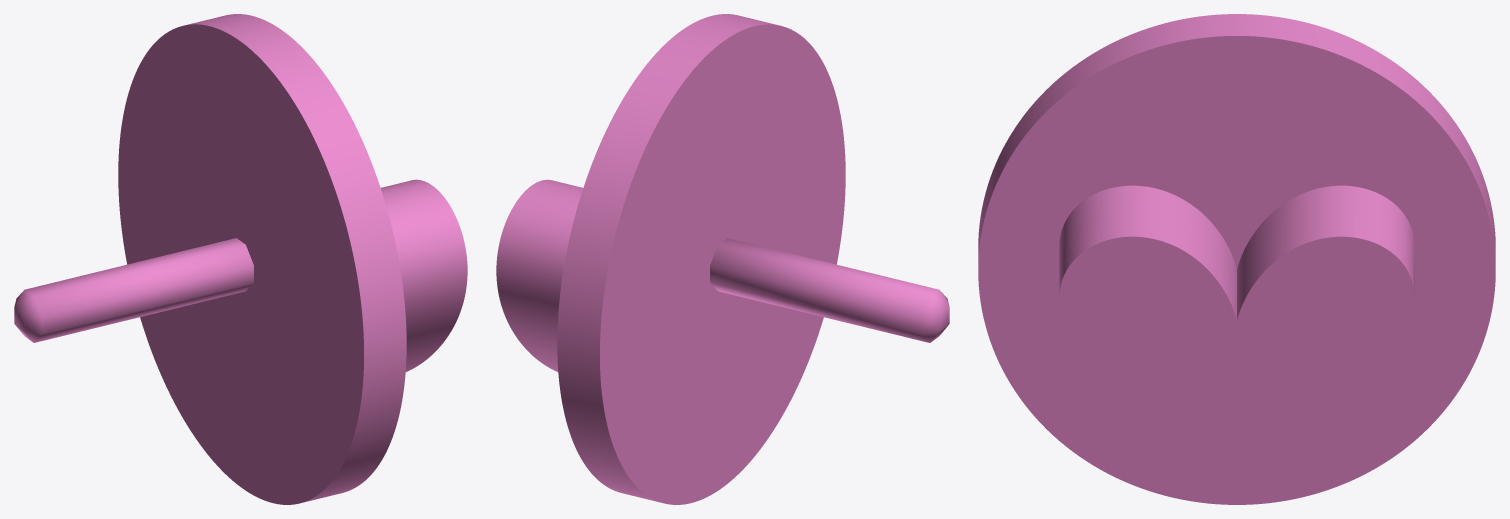
File: Stamp.fbx
3 renders of one model, left to right at view 1: azimuth 30°, elevation 25°; view 2: azimuth 150°, elevation 25°; view 3: azimuth 270°, elevation 25°, orthographic. The views are drawn at different scales.
Visible parts, largest first — view 1: Object_2, Cube; view 2: Object_2, Cube; view 3: Object_2.
Boxes of the visible parts, x1=… form: Object_2: x1=118, y1=14, x2=467, y2=504; Cube: x1=14, y1=238, x2=253, y2=342; Object_2: x1=496, y1=14, x2=845, y2=504; Cube: x1=710, y1=238, x2=949, y2=342; Object_2: x1=978, y1=14, x2=1495, y2=504.
Size of the model in its own units: 396 by 463 by 463.
